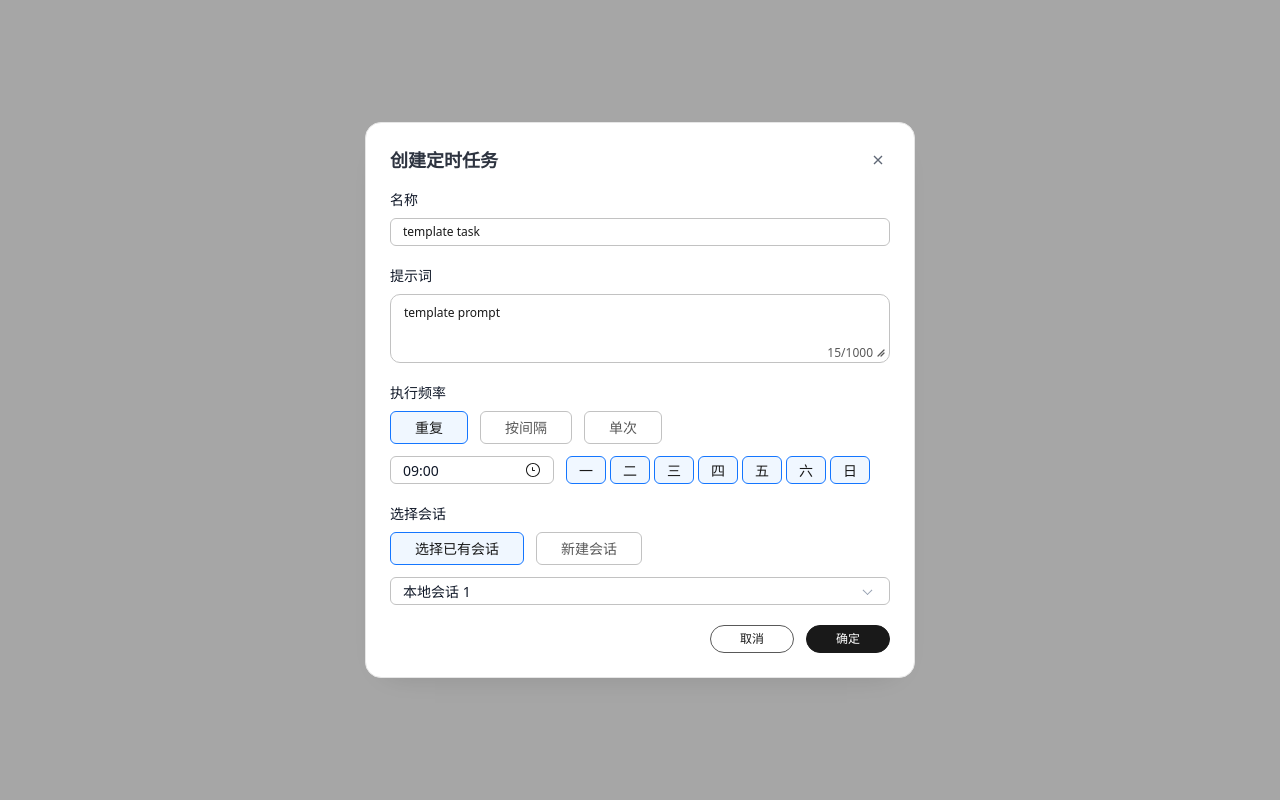
Scenario: ScheduleTaskEditorModal › does not prefill once time when a non-once template switches to 单次
The width and height of the screenshot is (1280, 800).
Click the button with test id "schedule-editor-frequency-once": (623, 428) [584,411,662,444]
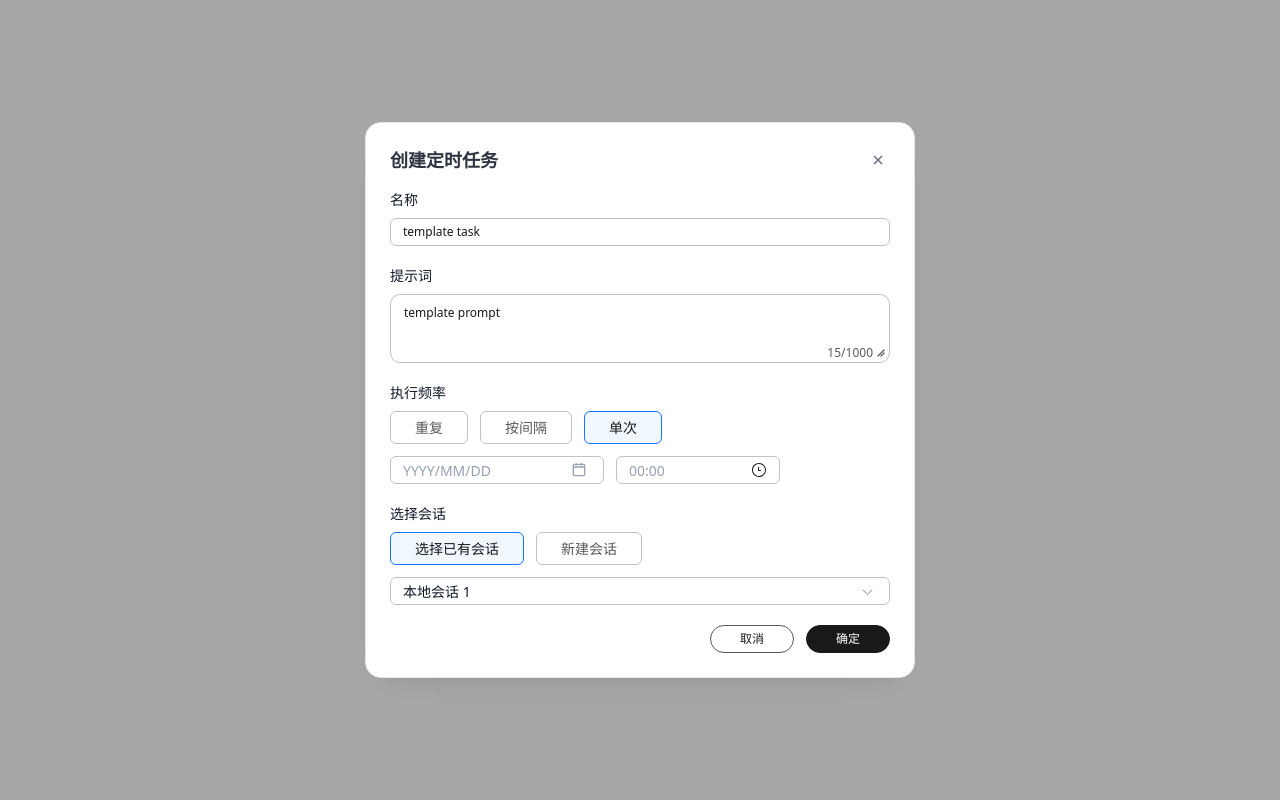
Now the button with test id "schedule-editor-once-time-trigger" reads "00:00", box [616,456,780,484]
